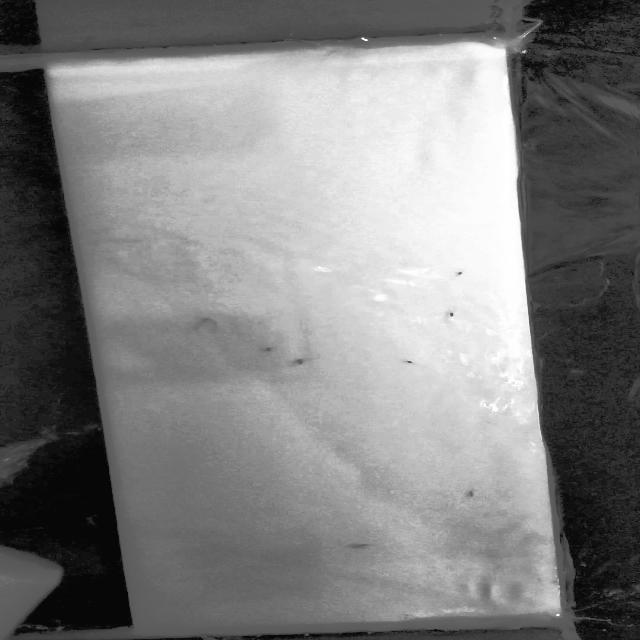shrimp: (429, 304, 468, 322), (258, 341, 286, 359), (344, 539, 379, 552), (462, 486, 484, 502), (291, 356, 315, 367), (398, 357, 422, 368), (452, 268, 468, 280)
